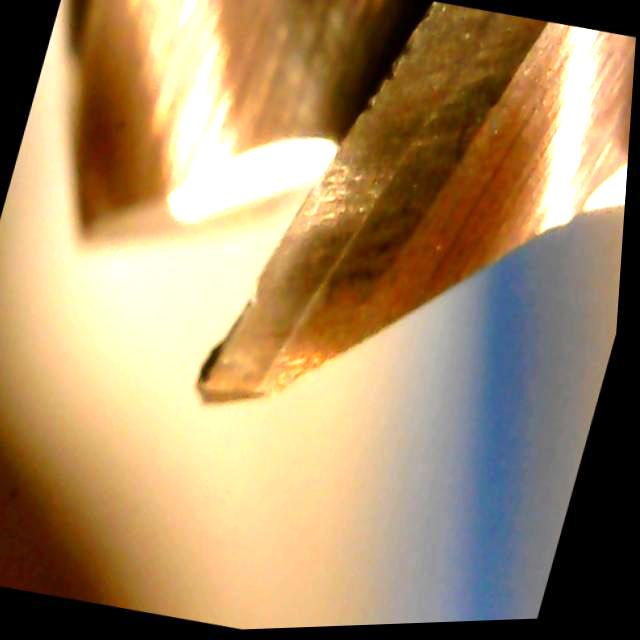Tool-wear-class-1: (176, 206, 382, 439)
